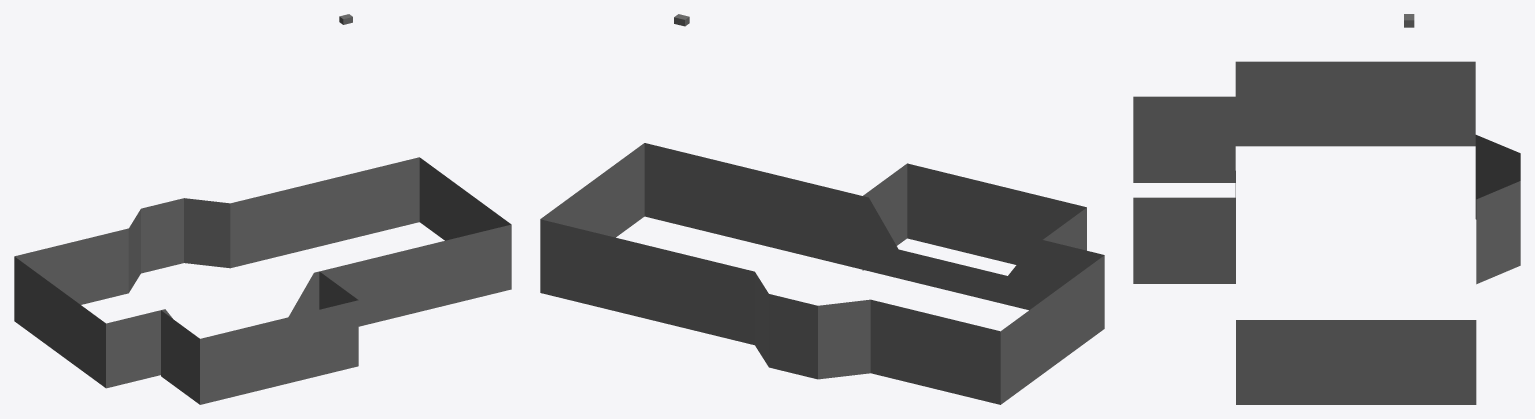
The model's file is kitchen-cinderblock.obj.
The picture shows the model from 3 angles, left to right: view 1: azimuth 30°, elevation 25°; view 2: azimuth 150°, elevation 25°; view 3: azimuth 270°, elevation 25°; orthographic projection. The views are drawn at different scales.
Parts seen in each view (by area): view 1: outerwalls_Plane.006; view 2: outerwalls_Plane.006; view 3: outerwalls_Plane.006.
Boxes of the visible parts, box(x1,y1,x2,y2) form: outerwalls_Plane.006: box(14, 157, 511, 404); outerwalls_Plane.006: box(540, 143, 1104, 404); outerwalls_Plane.006: box(1133, 61, 1520, 404).
Size of the model in its own units: 44.09 by 25.94 by 27.91.
Materials: 1 (1 with a texture image).
